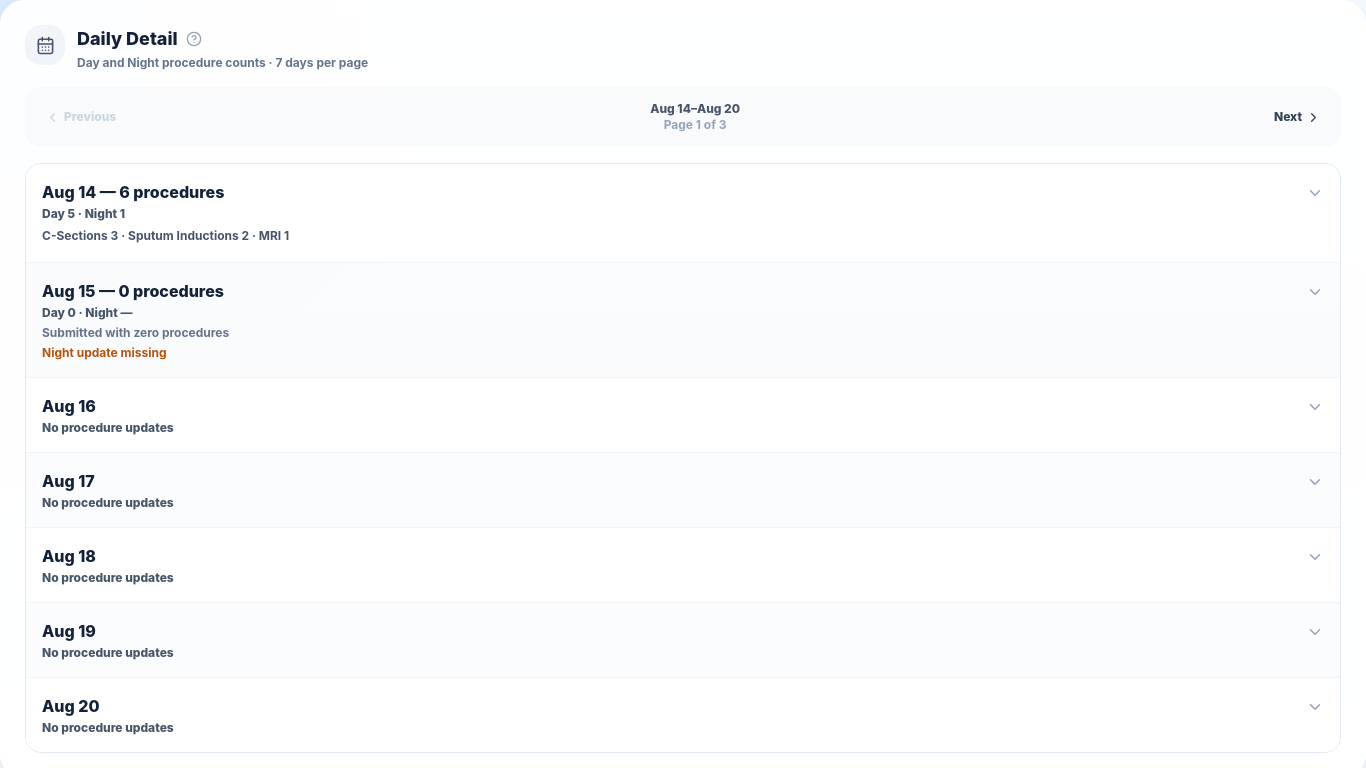
ProcedureDailyDetail › shows at most seven historical days and replaces them with the next page
Expected: the text "Aug 14 — 6 procedures" is shown, [42,182,224,202]
Expected: the text "Aug 21 — 2 procedures" is not shown
Click the button "Next".
click(1298, 117)  # box [1262,95,1333,139]
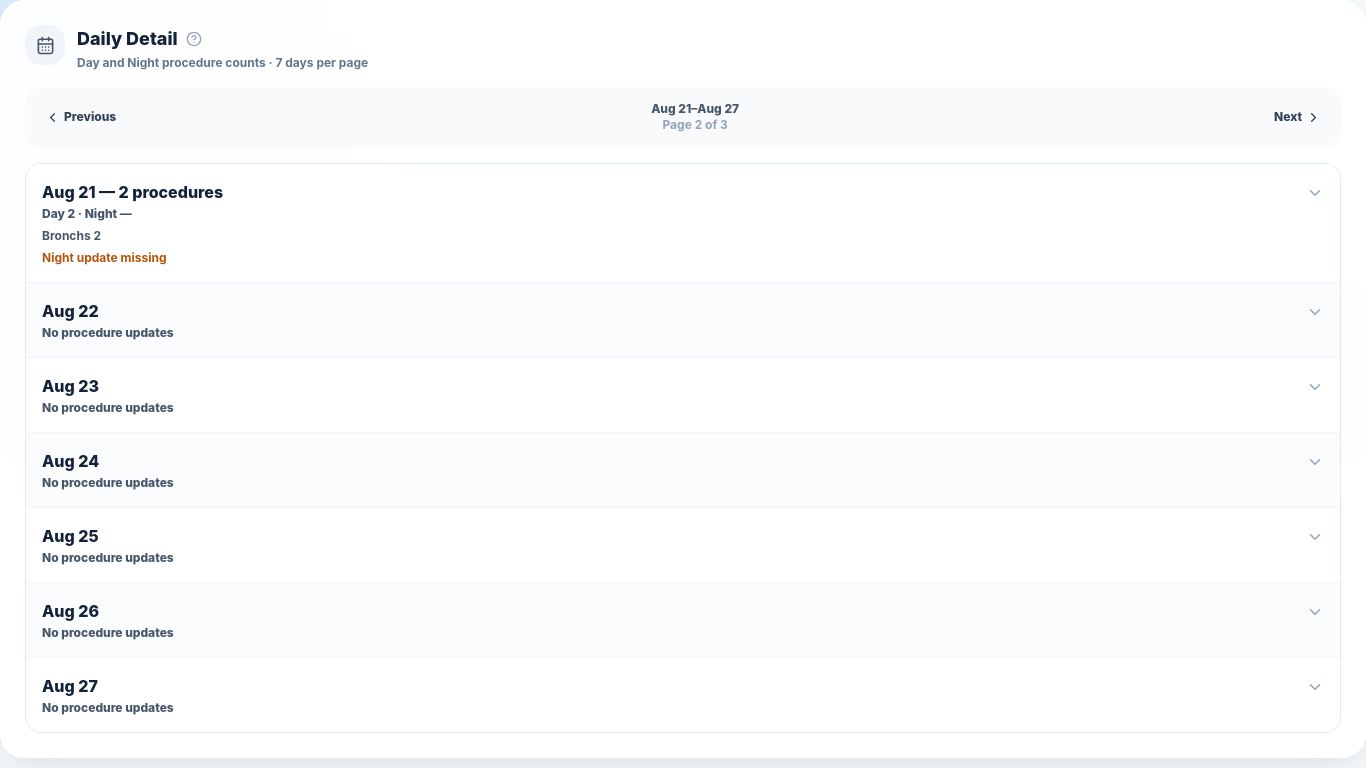
Expected: the button "Aug 14 — 6 procedures" is gone
Expected: the text "Aug 21 — 2 procedures" is shown, [42,180,223,204]
